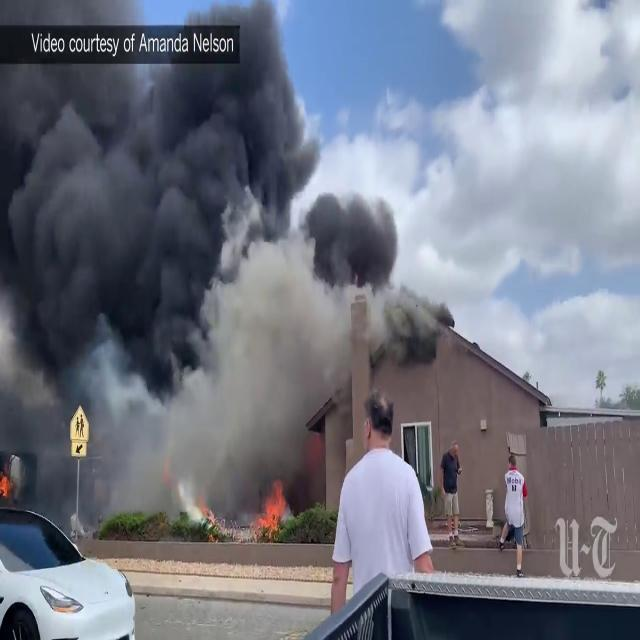Smoke: (0, 1, 356, 502), (306, 185, 444, 352)
